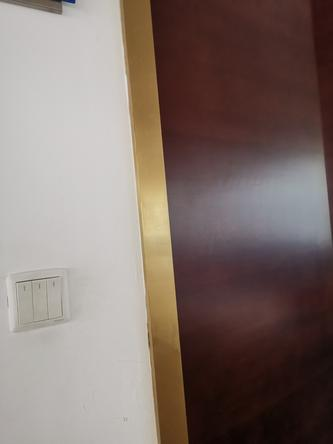switch: (12, 279, 37, 325), (44, 273, 65, 320), (31, 275, 50, 322)
